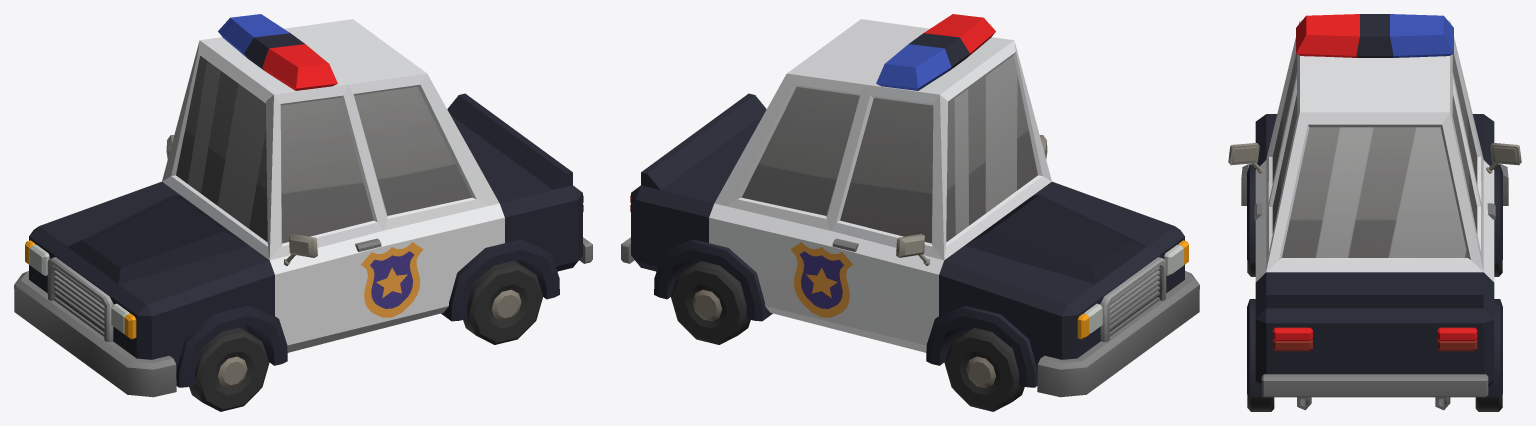
Rendered from Car_Police_3_1_A.gltf.
3 renders of one model, left to right at view 1: azimuth 30°, elevation 25°; view 2: azimuth 150°, elevation 25°; view 3: azimuth 270°, elevation 25°, orthographic.
Visible parts, largest first — view 1: Car_Police_3_1_A, RL, FL; view 2: Car_Police_3_1_A, RR, FR; view 3: Car_Police_3_1_A, RL, RR.
Part boxes in pixels (left/top/right/bottom): Car_Police_3_1_A: left=14, top=14, right=592, bottom=397; RL: left=463, top=261, right=543, bottom=344; FL: left=189, top=327, right=269, bottom=411; Car_Police_3_1_A: left=621, top=14, right=1199, bottom=397; RR: left=670, top=261, right=750, bottom=344; FR: left=944, top=327, right=1024, bottom=411; Car_Police_3_1_A: left=1228, top=14, right=1521, bottom=410; RL: left=1247, top=395, right=1274, bottom=411; RR: left=1475, top=395, right=1502, bottom=411.
Size of the model in its own units: 3.31 by 2.02 by 1.78.
Materials: 3 (3 with a texture image).
